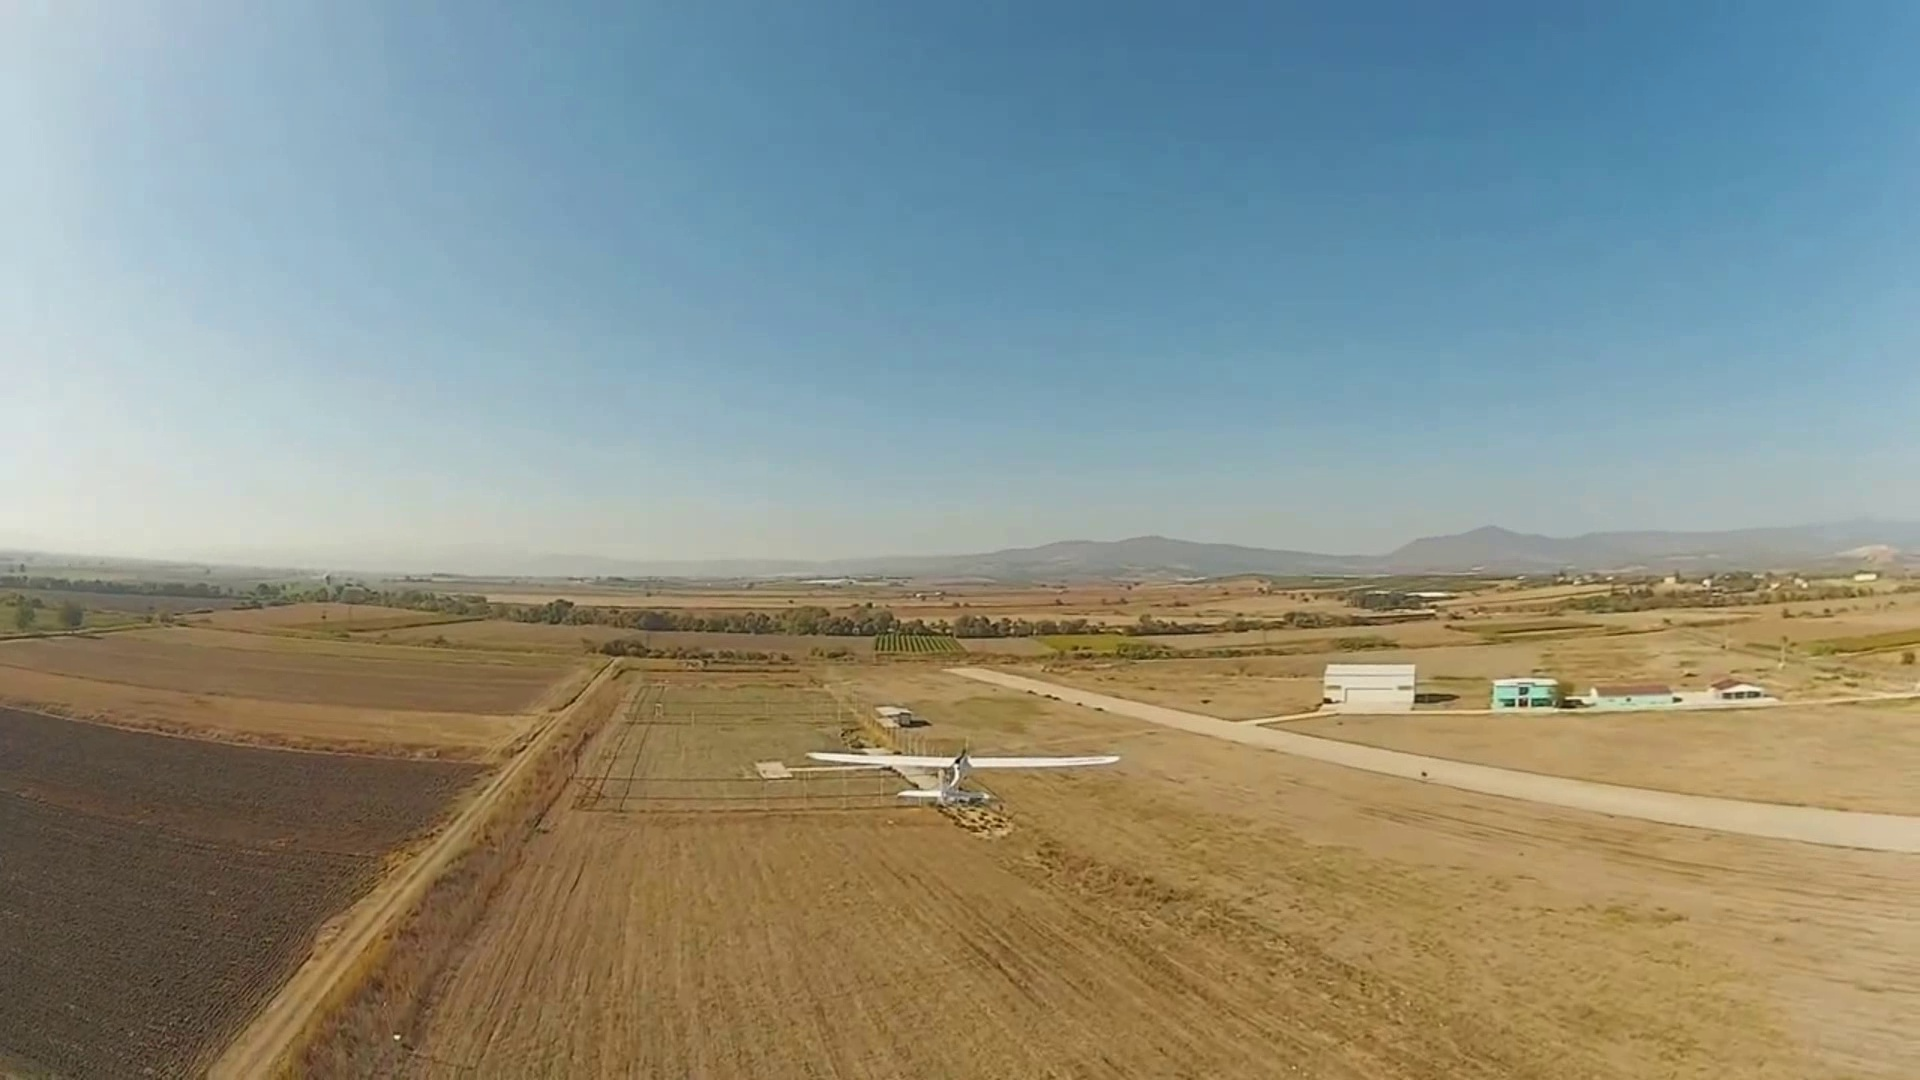airplane: (757, 709, 1126, 832)
